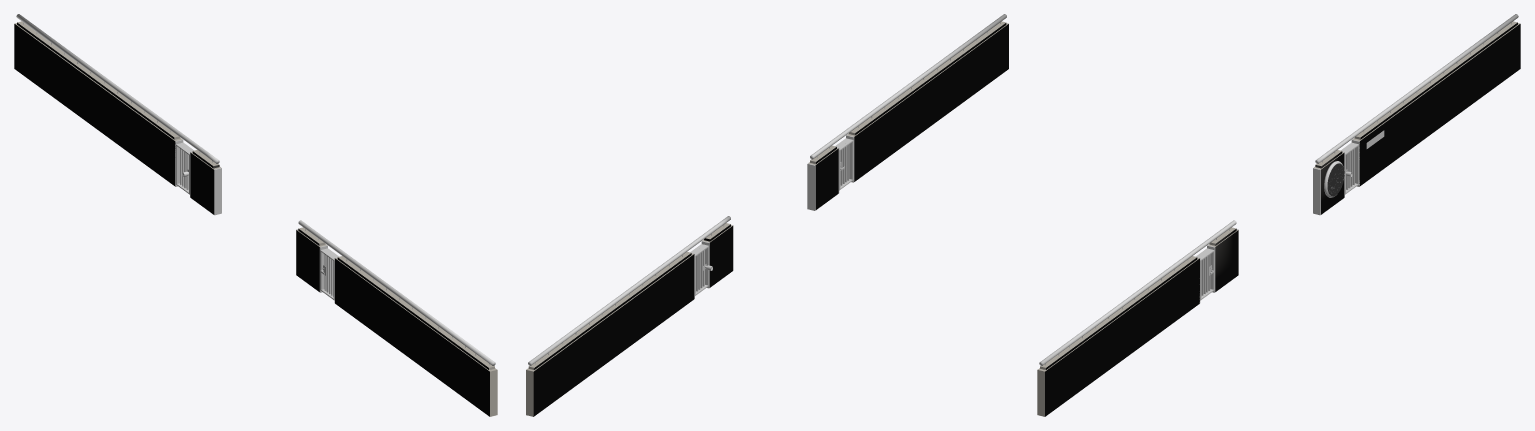
The model's file is Main_Gate.fbx.
3 renders of one model, left to right at view 1: azimuth 30°, elevation 25°; view 2: azimuth 150°, elevation 25°; view 3: azimuth 330°, elevation 25°, orthographic.
Visible parts, largest first — view 1: Long01, Long02, Short02, Short01, Iron02, Iron01, door01, door02; view 2: Long02, Long01, Short01, Short02, Iron02, Iron01, door01, door02; view 3: Long01, Long02, Short01, Iron02, Iron01, Short02, door01, door02, UEC_p;ate.
Boxes of the visible parts, x1,y1,x2,y2 form: Long01: [334, 256, 497, 416]; Long02: [14, 21, 183, 186]; Short02: [190, 150, 221, 215]; Short01: [296, 227, 327, 292]; Iron02: [16, 14, 219, 163]; Iron01: [298, 220, 495, 365]; door01: [320, 248, 338, 300]; door02: [176, 142, 193, 194]; Long02: [526, 251, 694, 416]; Long01: [846, 21, 1008, 182]; Short01: [807, 145, 839, 210]; Short02: [701, 223, 733, 288]; Iron02: [528, 216, 730, 365]; Iron01: [810, 14, 1006, 159]; door01: [835, 138, 853, 190]; door02: [690, 244, 712, 295]; Long01: [1037, 256, 1200, 416]; Long02: [1351, 21, 1520, 186]; Short01: [1207, 227, 1238, 292]; Iron02: [1315, 14, 1518, 163]; Iron01: [1039, 220, 1236, 365]; Short02: [1313, 150, 1344, 215]; door01: [1196, 248, 1214, 300]; door02: [1341, 142, 1358, 194]; UEC_p;ate: [1324, 161, 1344, 197].
Size of the model in its own units: 79.16 by 239 by 3802.
7 materials, 3 textured.
